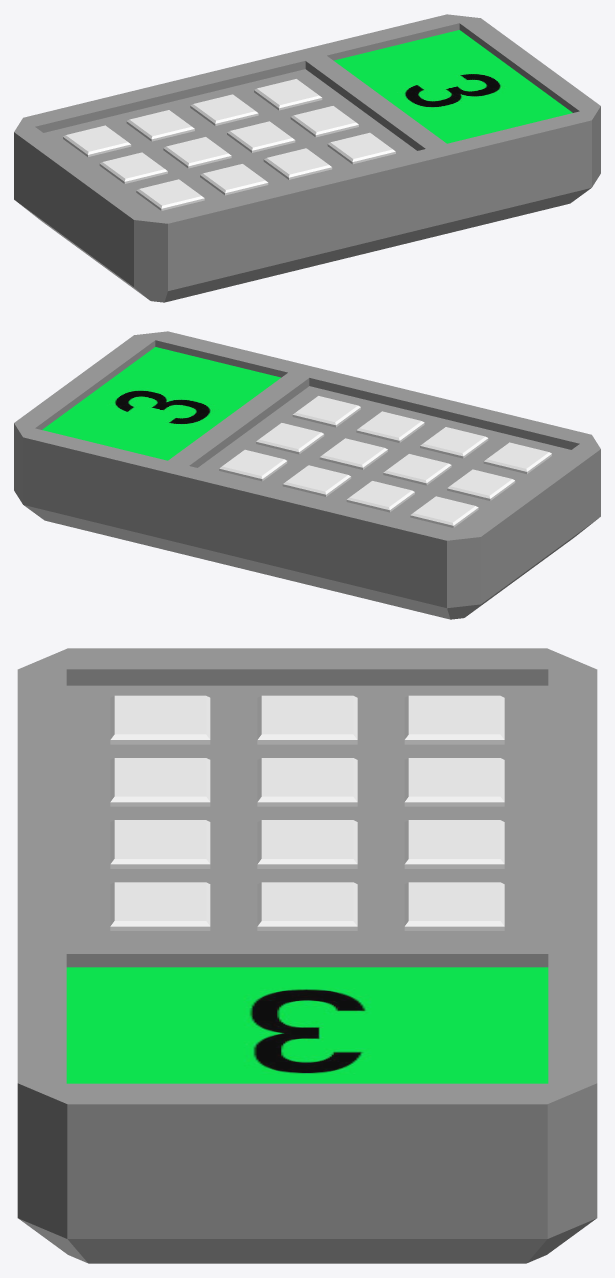
Rendered from phone_1_solved.glb.
3 renders of one model, top to bottom at view 1: azimuth 30°, elevation 25°; view 2: azimuth 150°, elevation 25°; view 3: azimuth 270°, elevation 25°, orthographic. The views are drawn at different scales.
Visible parts, largest first — view 1: phone_1_solved; view 2: phone_1_solved; view 3: phone_1_solved.
Part boxes in pixels (<box>): phone_1_solved: <box>14,14,600,302</box>; phone_1_solved: <box>14,331,600,619</box>; phone_1_solved: <box>17,648,597,1263</box>.
Size of the model in its own units: 0.3353 by 0.0622 by 0.1801.
4 materials, 2 textured.
